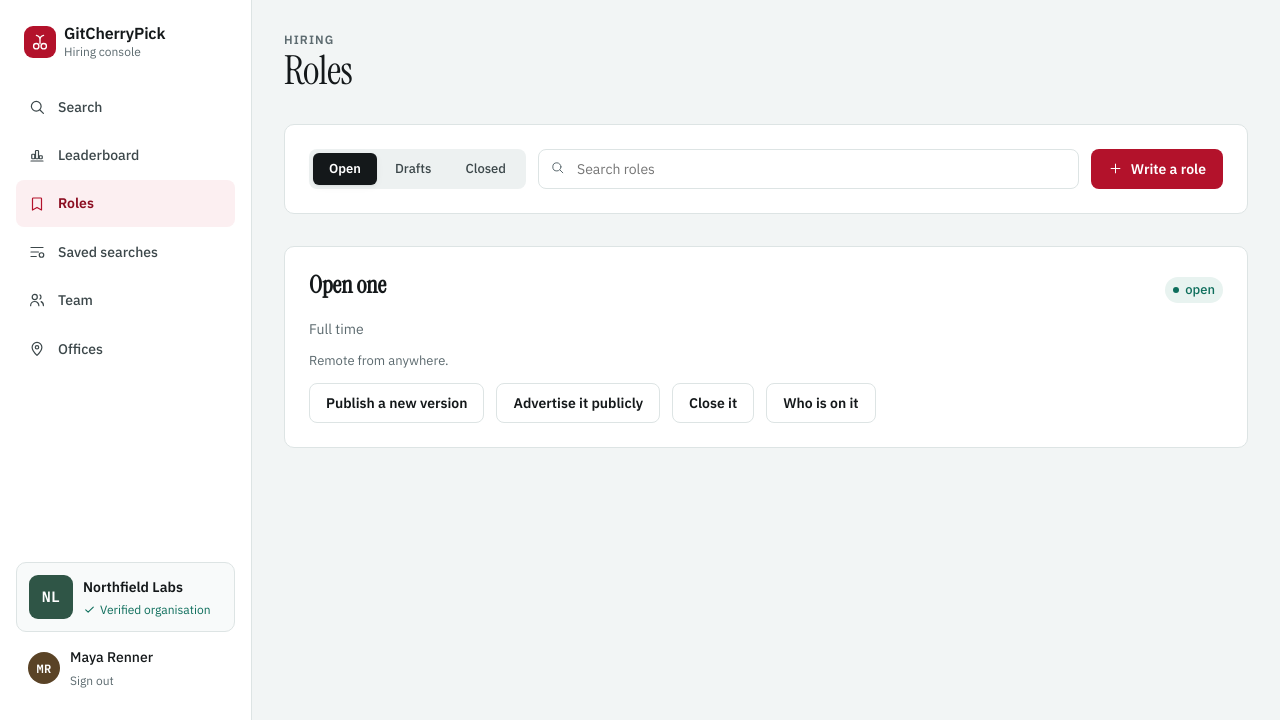
Test case: the app renders › searches the candidates on a role, within that role only
Click the button "Who is on it" at (821, 403), box [766,383,876,423]
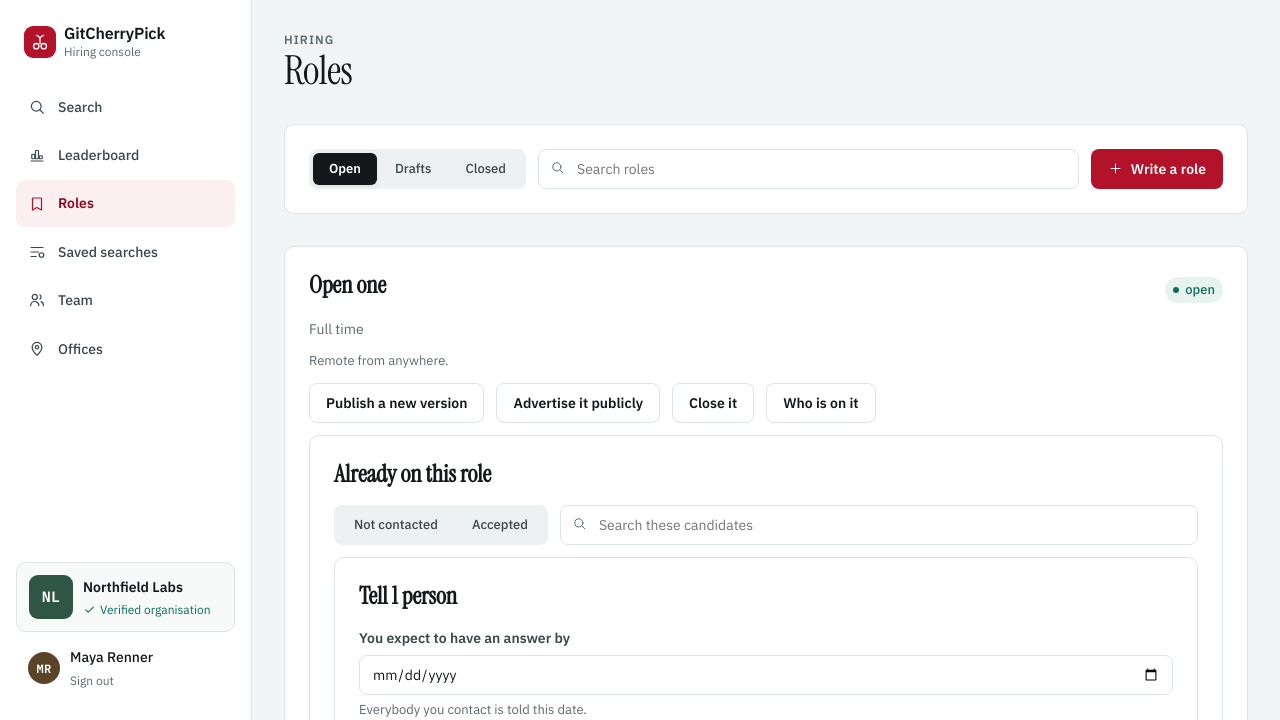
Type "bob" into the search field named "Search candidates on Open one" at (879, 525), box [560,505,1198,545]
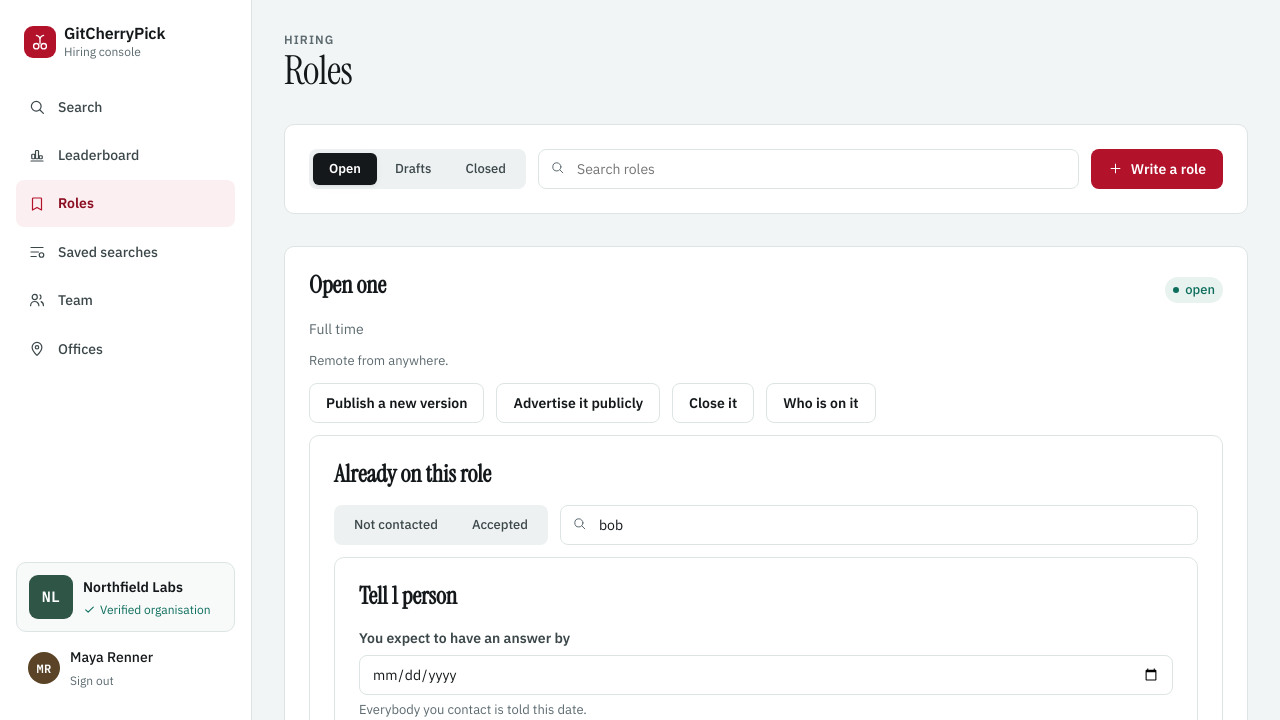
Note: And an empty result says what was searched — the people on THIS role.
Replace the text in the search field named "Search candidates on Open one" with "nobody" at (879, 525), box [560,505,1198,545]
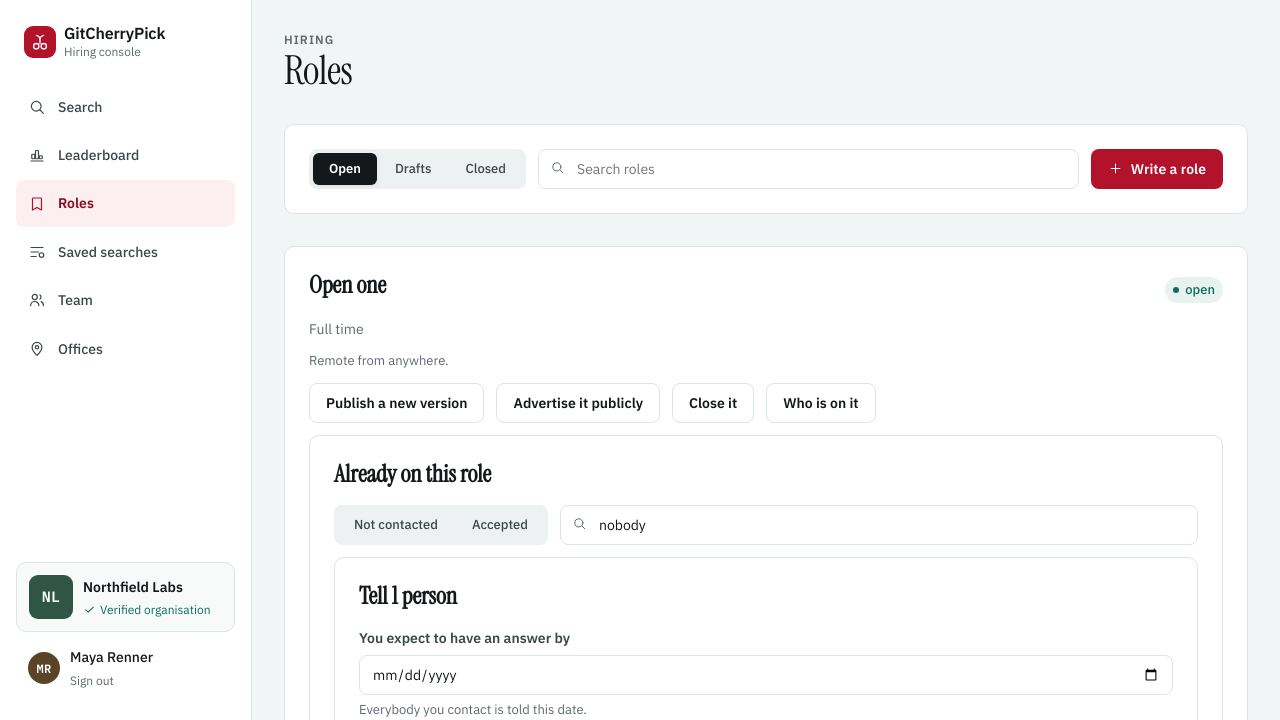
Clear the search field named "Search candidates on Open one" at (879, 525), box [560,505,1198,545]
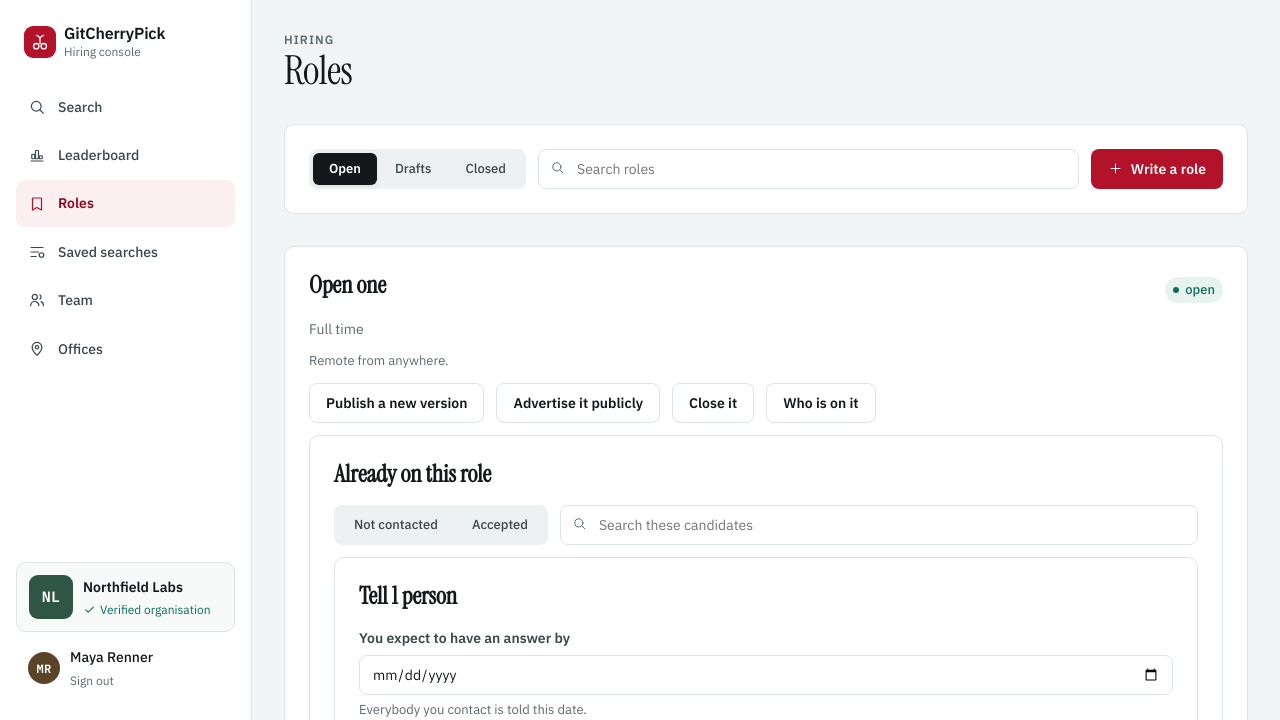
Click the button "Accepted" at (500, 525), box [456,509,544,541]
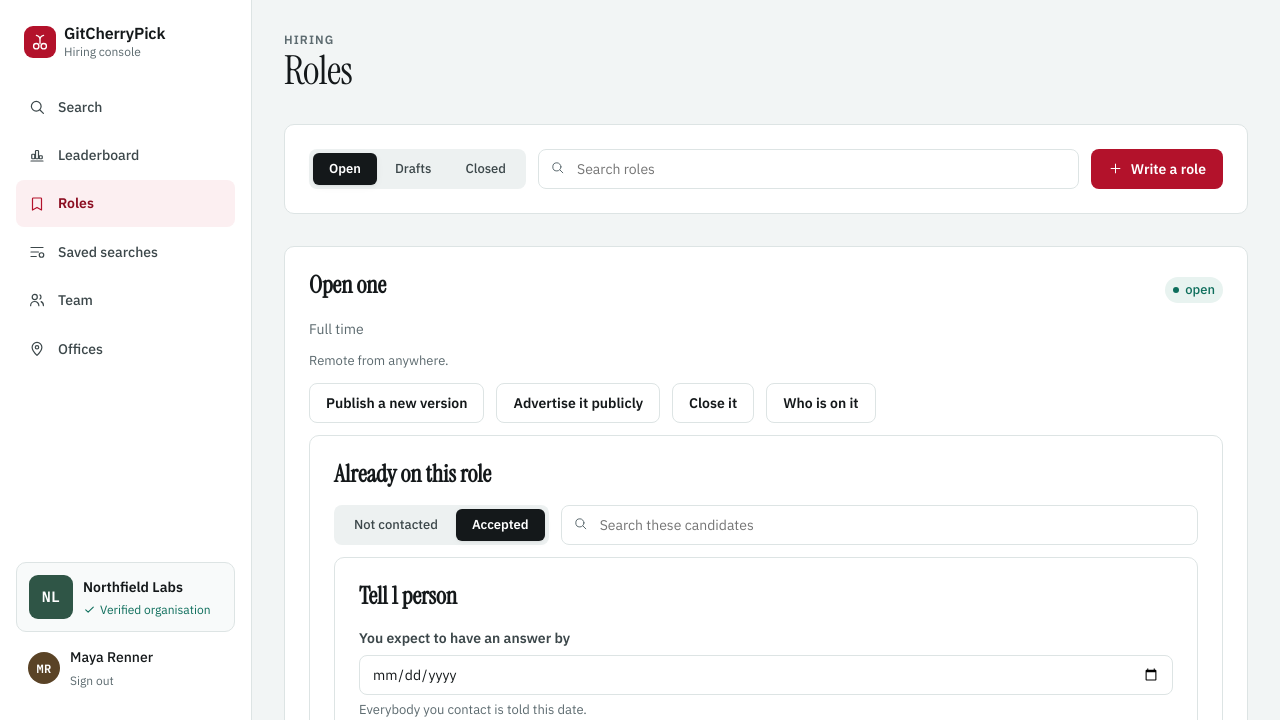
Note: Untick and both are back: nothing ticked is no filter, not an empty list.
Click the button "Accepted" at (500, 525), box [456,509,545,541]
(page scrolled)
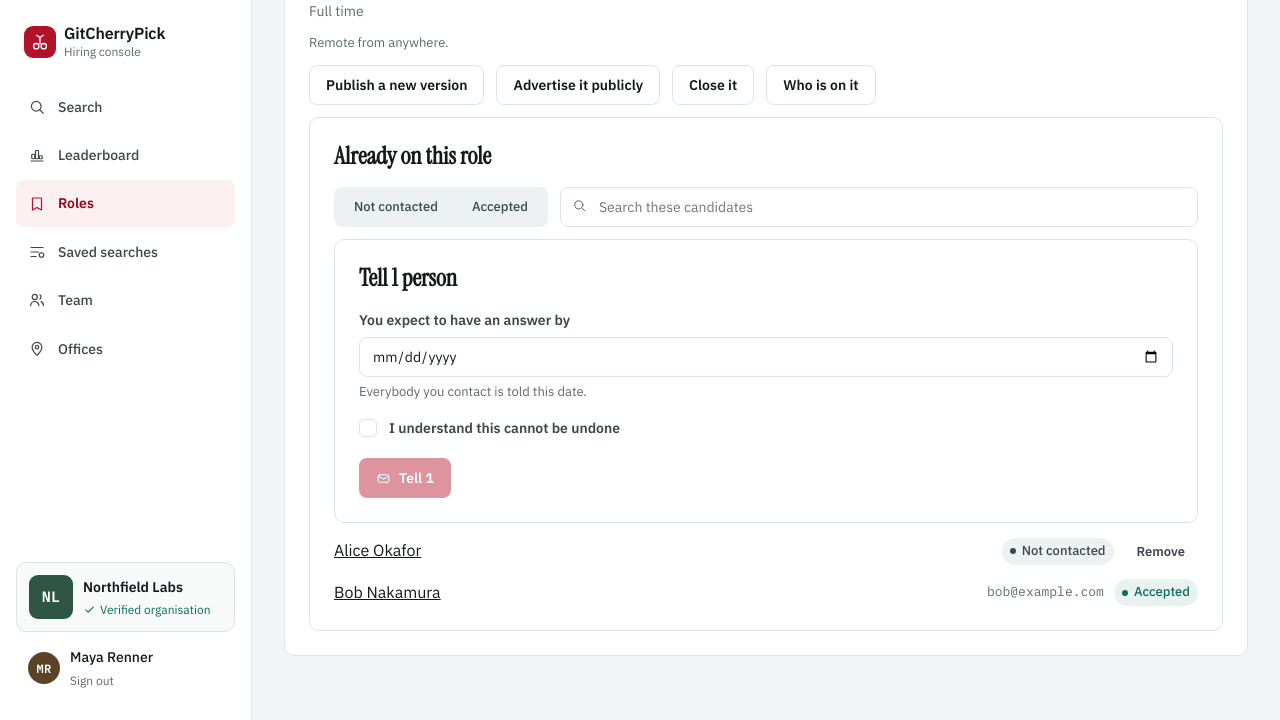
Now the link "Alice Okafor" is shown, box [334,540,421,560]
